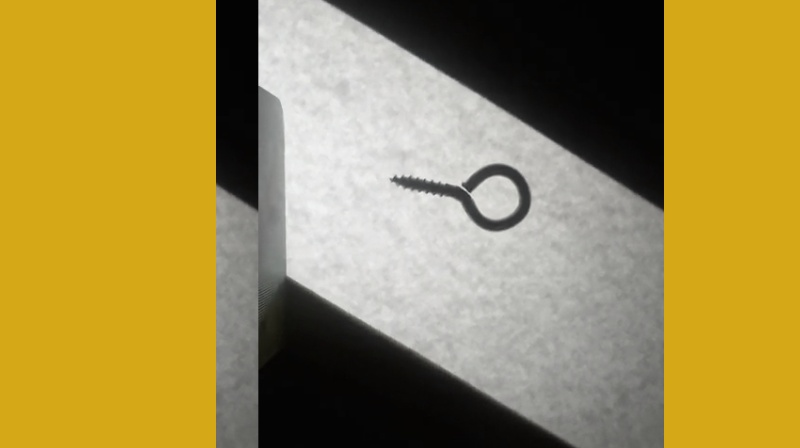O001: (386, 157, 532, 234)
